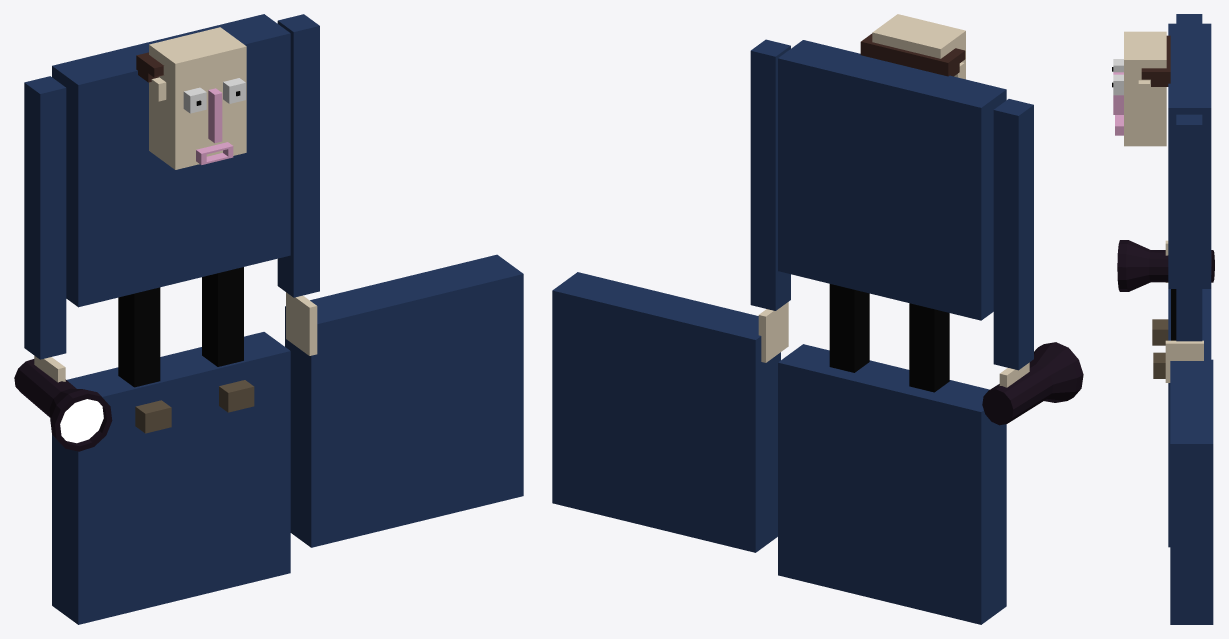
File: Man.glb
The picture shows the model from 3 angles, left to right: view 1: azimuth 30°, elevation 25°; view 2: azimuth 150°, elevation 25°; view 3: azimuth 270°, elevation 25°; orthographic projection. The views are drawn at different scales.
Visible parts, largest first — view 1: Cube.004, Cube.002, Cube, Cube.007, Cube.001, Cube.006, Cylinder, Cube.009, Cube.008, Cube.012, Cube.011, Cube.010 (+1 smaller); view 2: Cube.004, Cube.002, Cube, Cube.007, Cube.006, Cylinder, Cube.009, Cube.008, Cube.001, Cube.017, Cube.012; view 3: Cube.004, Cube, Cube.006, Cube.001, Cylinder, Cube.002, Cube.012, Cube.017, Cube.011, Cube.010, Cube.008, Cube.007 (+4 smaller).
Boxes of the visible parts, x1,y1,x2,y2 form: Cube.004: (285,254,523,547); Cube.002: (52,332,290,624); Cube: (52,14,290,307); Cube.007: (24,76,66,359); Cube.001: (149,27,246,169); Cube.006: (277,14,319,297); Cylinder: (14,359,112,451); Cube.009: (118,287,160,387); Cube.008: (202,267,243,366); Cube.012: (286,292,317,355); Cube.011: (135,400,171,433); Cube.010: (219,380,254,412); Cube.004: (552,272,780,552); Cube.002: (778,344,1006,624); Cube: (778,40,1006,320); Cube.007: (993,99,1033,370); Cube.006: (750,39,790,310); Cylinder: (982,342,1083,425); Cube.009: (909,303,949,392); Cube.008: (829,284,869,372); Cube.001: (872,14,965,79); Cube.017: (860,33,965,76); Cube.012: (758,302,788,362); Cube.004: (1170,359,1213,624); Cube: (1168,23,1211,288); Cube.006: (1176,114,1202,341); Cube.001: (1124,31,1166,146); Cylinder: (1117,240,1214,291); Cube.002: (1168,289,1211,547); Cube.012: (1165,340,1203,382); Cube.017: (1141,35,1170,86); Cube.011: (1152,319,1168,345); Cube.010: (1153,352,1165,378); Cube.008: (1171,289,1176,340); Cube.007: (1176,14,1202,23).
Size of the model in its own units: 4.7 by 5.08 by 1.03.
